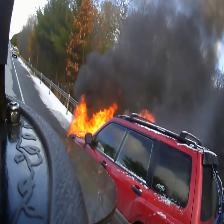fire: (67, 85, 161, 155)
smoke: (70, 0, 224, 116)
